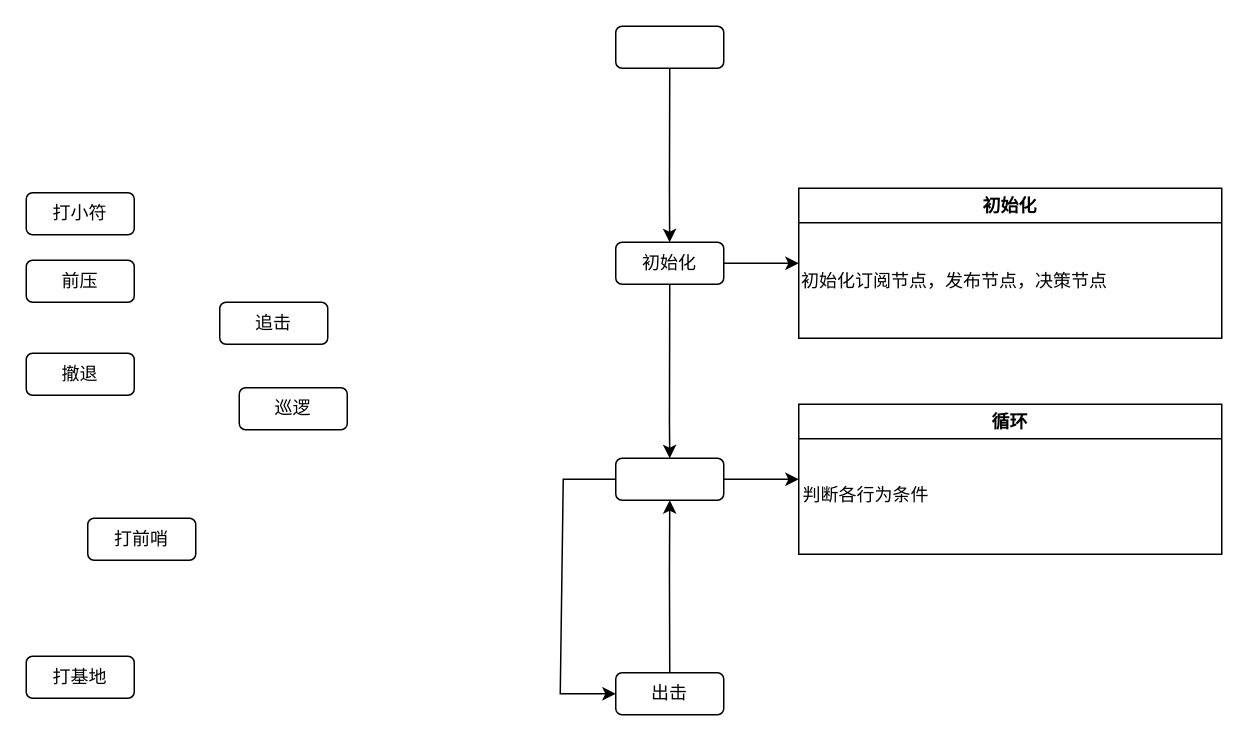
Image size: 1248x741. Some labels were removed from this diagram. Each missing label, with the centre of its shape:
"决策循环" belongs at point (669, 478).
"比赛开始" belongs at point (669, 46).
